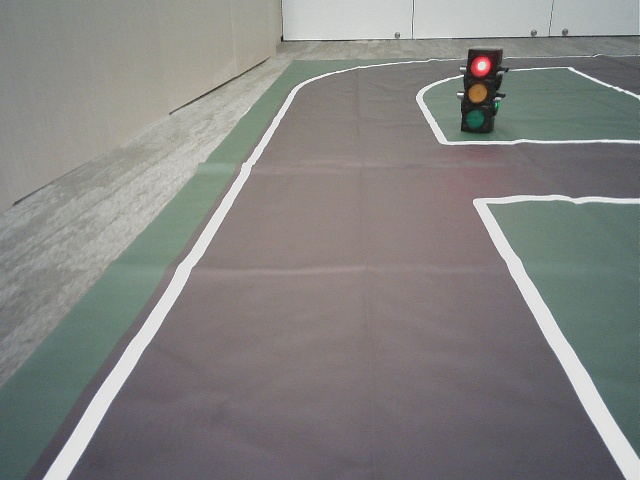red: (464, 50, 491, 128)
